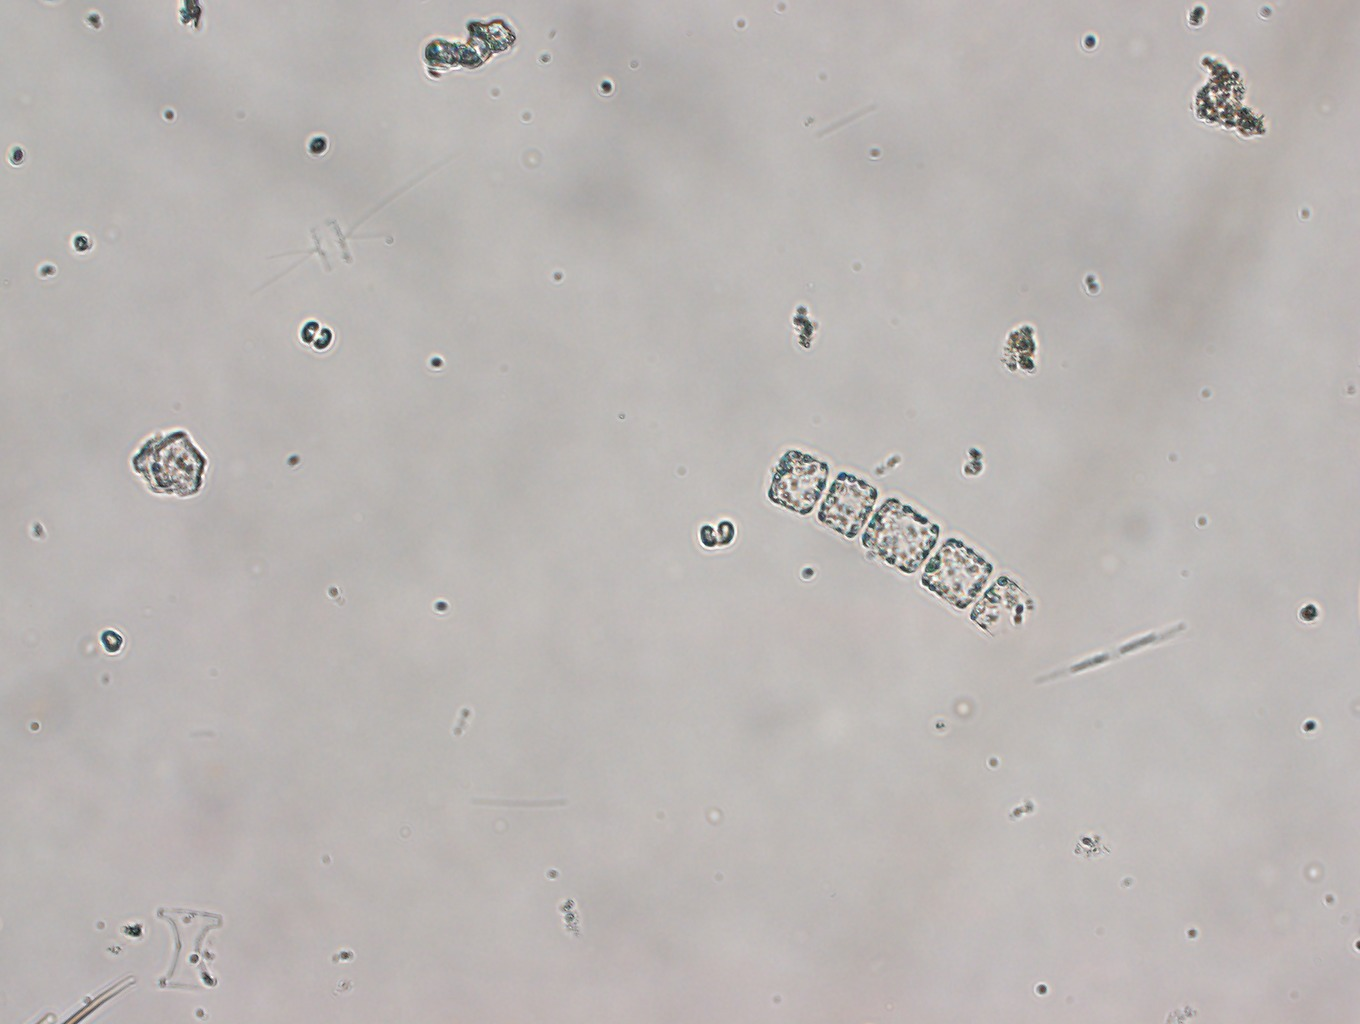chaetoceros: (228, 133, 464, 305)
detonula pumila: (763, 436, 1037, 643)
